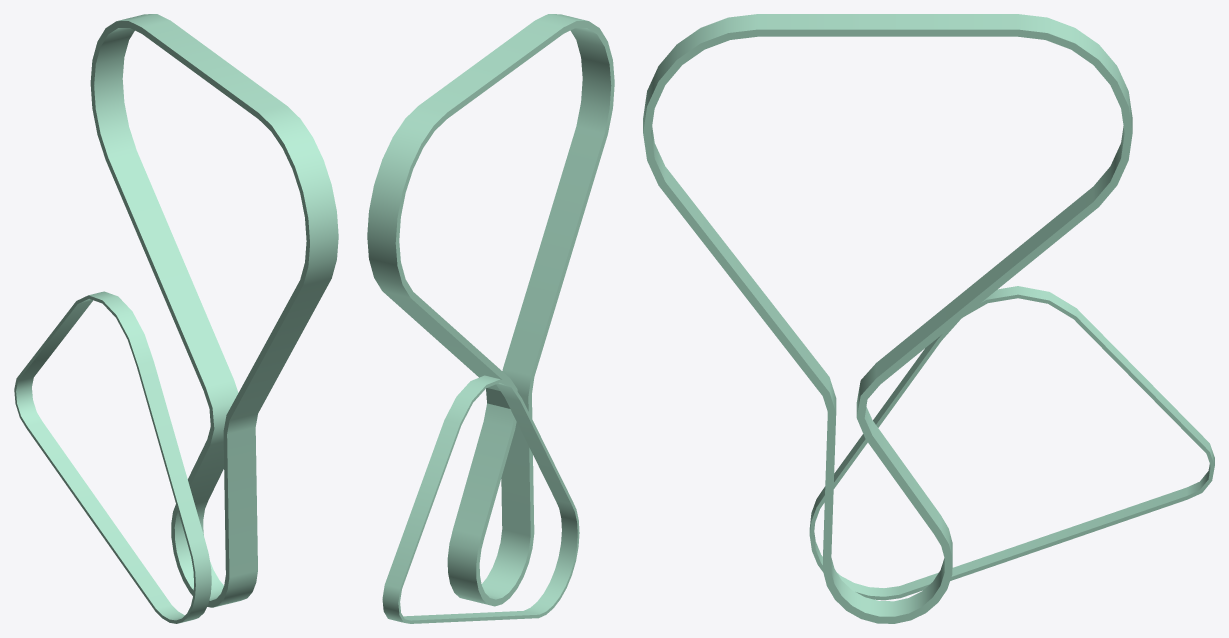
3 renders of one model, left to right at view 1: azimuth 30°, elevation 25°; view 2: azimuth 150°, elevation 25°; view 3: azimuth 270°, elevation 25°, orthographic. The views are drawn at different scales.
Visible parts, largest first — view 1: rb26_stock_reference.001_rb26_stock_reference.001_rb26_stoc.000; view 2: rb26_stock_reference.001_rb26_stock_reference.001_rb26_stoc.000; view 3: rb26_stock_reference.001_rb26_stock_reference.001_rb26_stoc.000.
Boxes of the visible parts, left/top/right/bottom form: rb26_stock_reference.001_rb26_stock_reference.001_rb26_stoc.000: left=14, top=14, right=338, bottom=623; rb26_stock_reference.001_rb26_stock_reference.001_rb26_stoc.000: left=367, top=14, right=614, bottom=623; rb26_stock_reference.001_rb26_stock_reference.001_rb26_stoc.000: left=643, top=14, right=1214, bottom=623.
Bounding box in the file's own units: 3.16 × 23.84 × 20.61.
